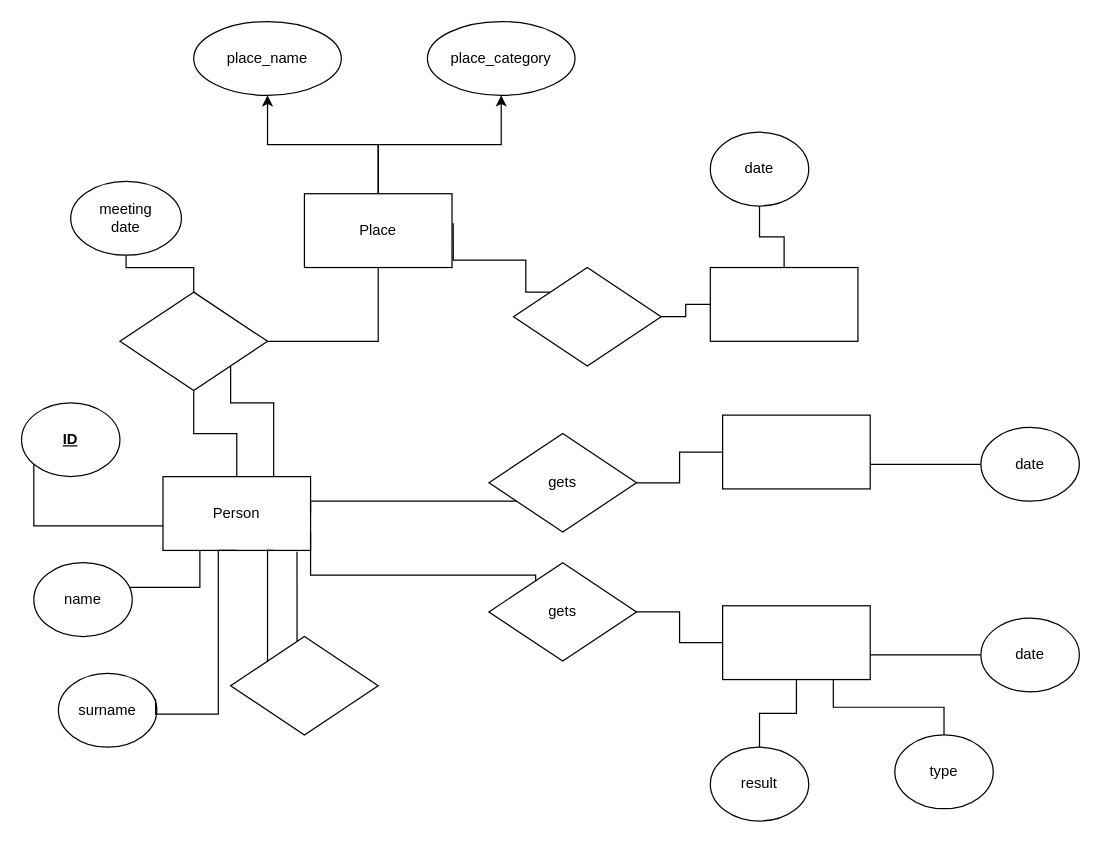
This 1101x843 diagram has some shape labels left out. Each missing label, with the box of its shape:
contagion: (709, 266, 858, 341)
meets: (119, 291, 268, 391)
occurred: (512, 266, 661, 366)
relative: (229, 635, 378, 735)
test: (721, 605, 870, 680)
vaccine: (721, 414, 870, 489)
